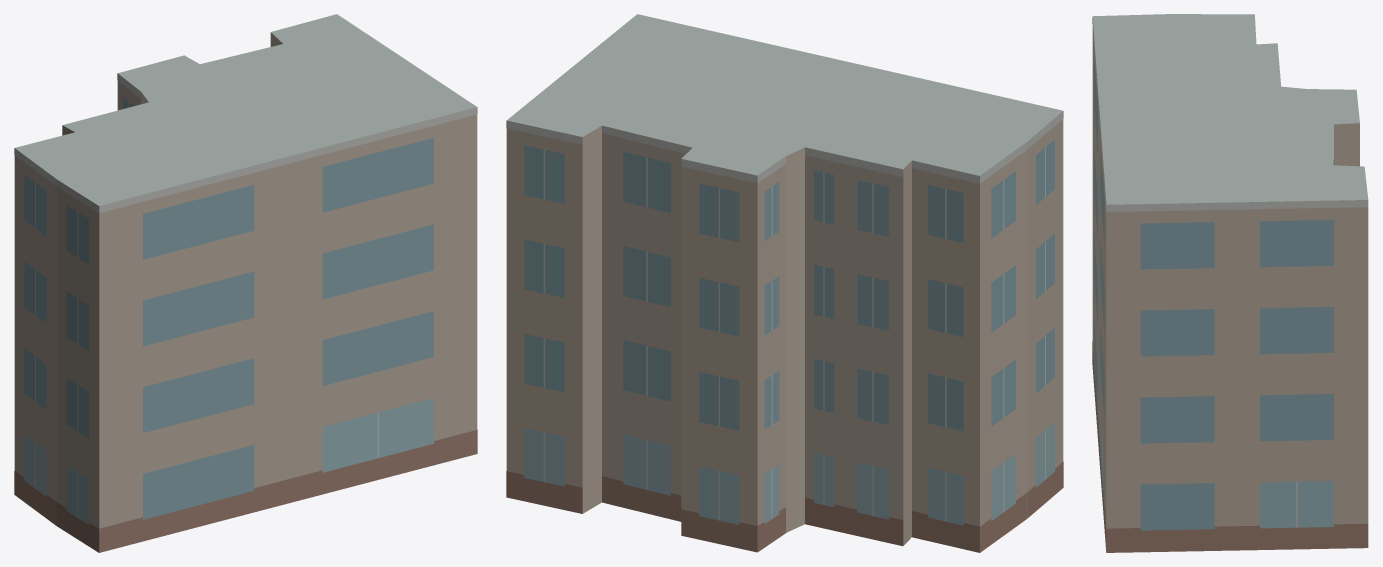
The model's file is survey-upis-32637867.glb.
3 renders of one model, left to right at view 1: azimuth 30°, elevation 25°; view 2: azimuth 150°, elevation 25°; view 3: azimuth 270°, elevation 25°, orthographic. The views are drawn at different scales.
Visible parts, largest first — view 1: survey-upis-32637867.tmp; view 2: survey-upis-32637867.tmp; view 3: survey-upis-32637867.tmp.
Boxes of the visible parts, <box> form: survey-upis-32637867.tmp: <box>14,14,477,552</box>; survey-upis-32637867.tmp: <box>506,14,1063,552</box>; survey-upis-32637867.tmp: <box>1092,14,1368,552</box>.
Size of the model in its own units: 13.82 by 11.75 by 8.45.
